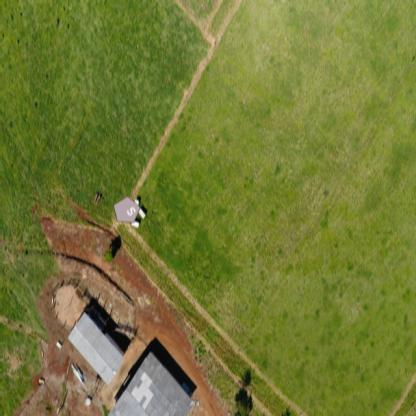S: (126, 206, 137, 216)
pentagon: (114, 196, 139, 223)
